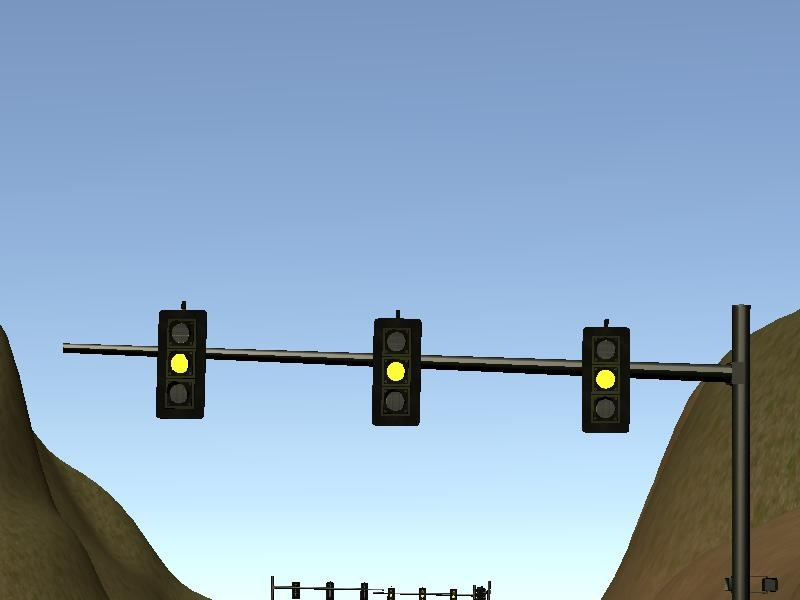YELLOW: (576, 325, 630, 435), (368, 318, 422, 428), (155, 309, 209, 419)
